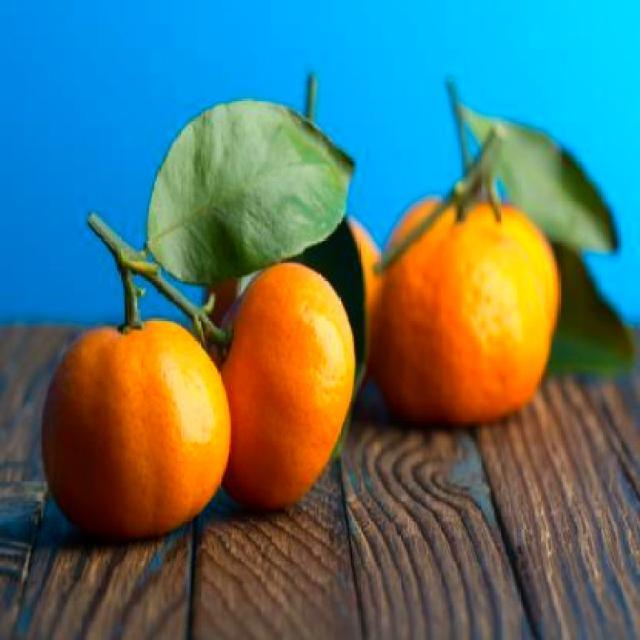Jeruk Sudah Matang: (368, 188, 557, 424), (40, 317, 229, 528), (210, 261, 352, 514)
